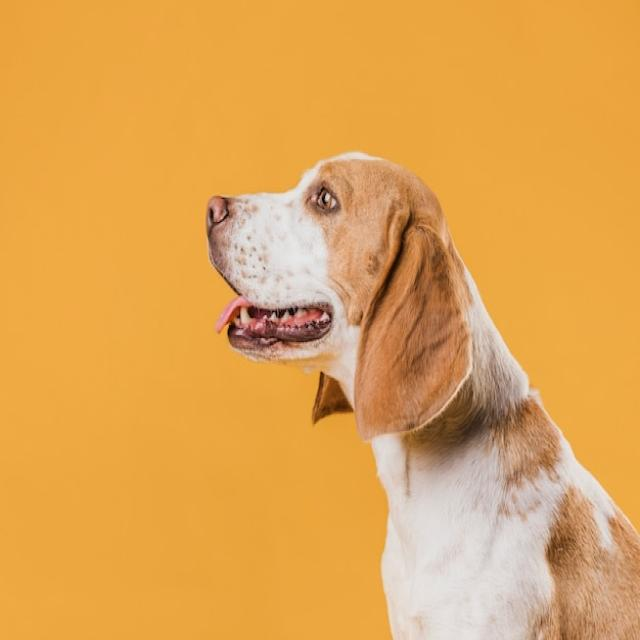Dog: (206, 152, 640, 640)
